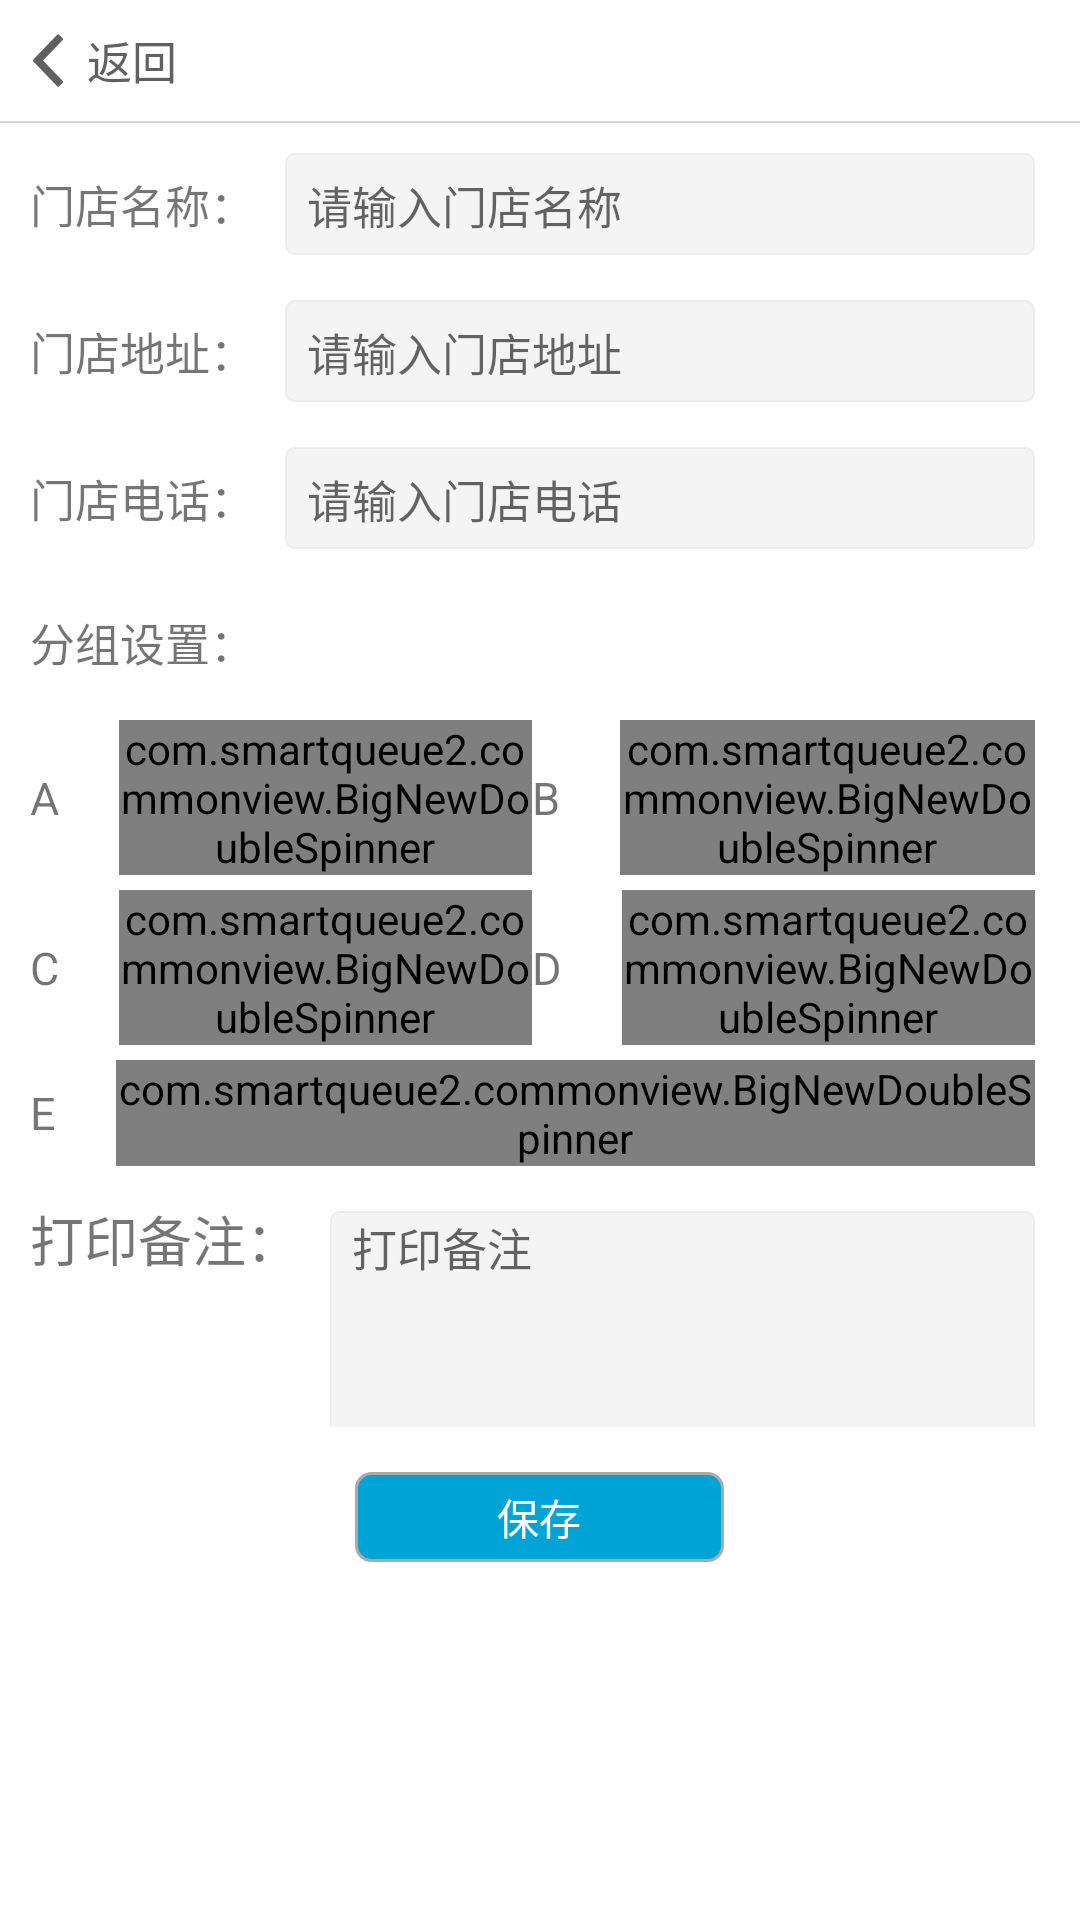

Where icons sit on this 1080 × 1920 app screen, as (x1, y1, x2, y2):
ion chevron left ionicons: (33, 34, 63, 87)
